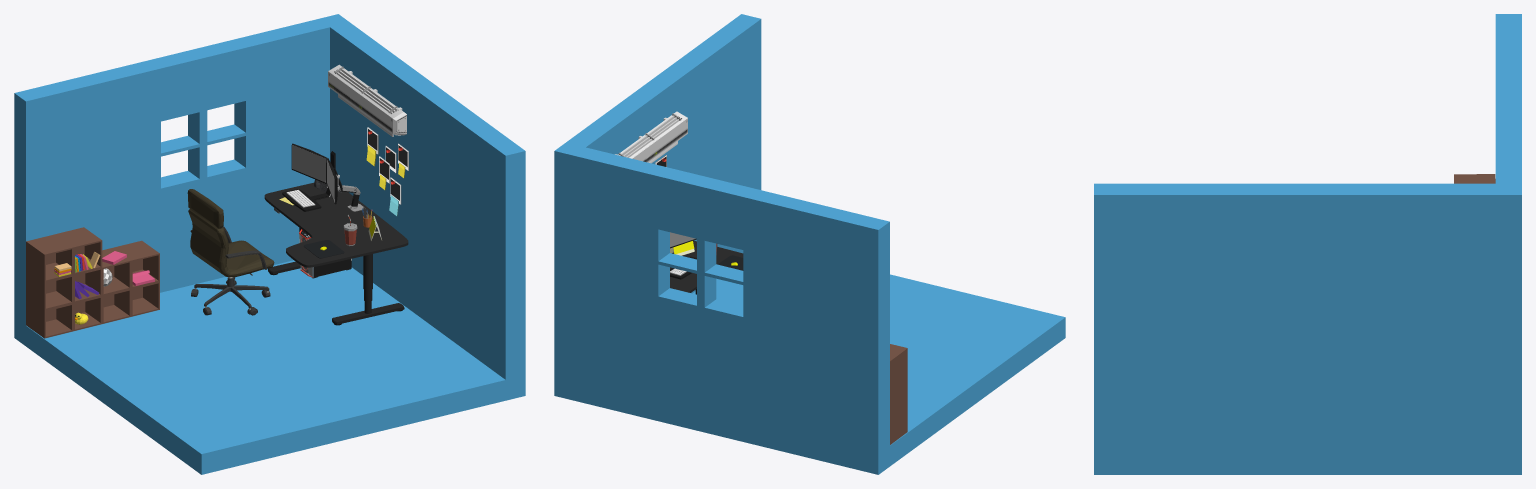
Rendered from room.glb.
The picture shows the model from 3 angles, left to right: view 1: azimuth 30°, elevation 25°; view 2: azimuth 150°, elevation 25°; view 3: azimuth 270°, elevation 25°; orthographic projection. The views are drawn at different scales.
Visible parts, largest first — view 1: Plane, group1329329239, Desk, Node.001, Air_Conditioner1, Node, Dual Monitors on sit-stand arm|group860618825|Dupli|22; view 2: Plane, Air_Conditioner1, group1329329239, Desk; view 3: Plane.
Part boxes in pixels (bbox=[...]): Plane: bbox=[14, 14, 525, 474]; group1329329239: bbox=[26, 227, 159, 338]; Desk: bbox=[264, 182, 408, 325]; Node.001: bbox=[187, 189, 274, 315]; Air_Conditioner1: bbox=[328, 64, 406, 136]; Node: bbox=[366, 127, 408, 216]; Dual Monitors on sit-stand arm|group860618825|Dupli|22: bbox=[291, 143, 326, 183]; Plane: bbox=[554, 14, 1065, 474]; Air_Conditioner1: bbox=[615, 111, 687, 163]; group1329329239: bbox=[890, 344, 907, 444]; Desk: bbox=[670, 240, 743, 294]; Plane: bbox=[1094, 14, 1521, 474].
Bounding box in the file's own units: 4.36 × 3.15 × 4.36.
Materials: 68 (4 with a texture image).
